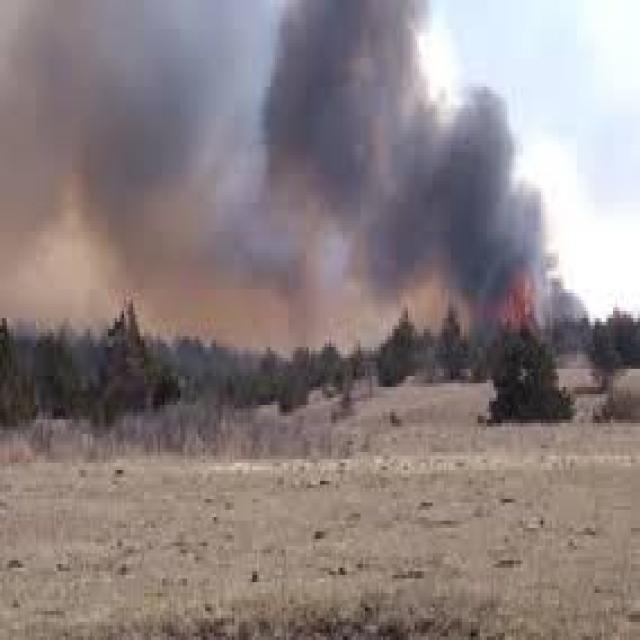Fire: (499, 268, 550, 345)
Smoke: (20, 32, 593, 285)
